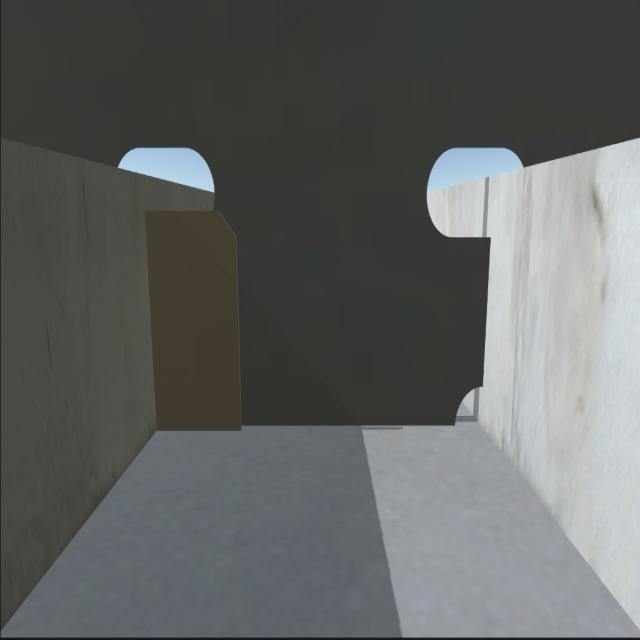fillet_hole: (450, 378, 486, 429)
fillet_yong_jeop_jang: (157, 419, 453, 432)
longi_yong_jeop_jang: (141, 212, 165, 428), (476, 226, 496, 384)
plate_CP03: (150, 216, 244, 432)
